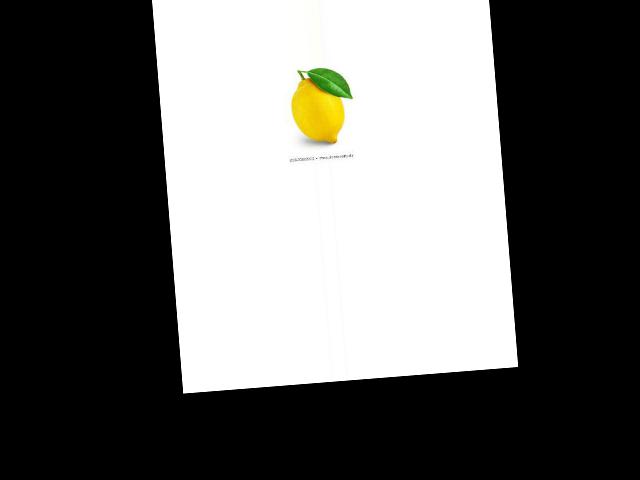lemon: (285, 70, 348, 151)
